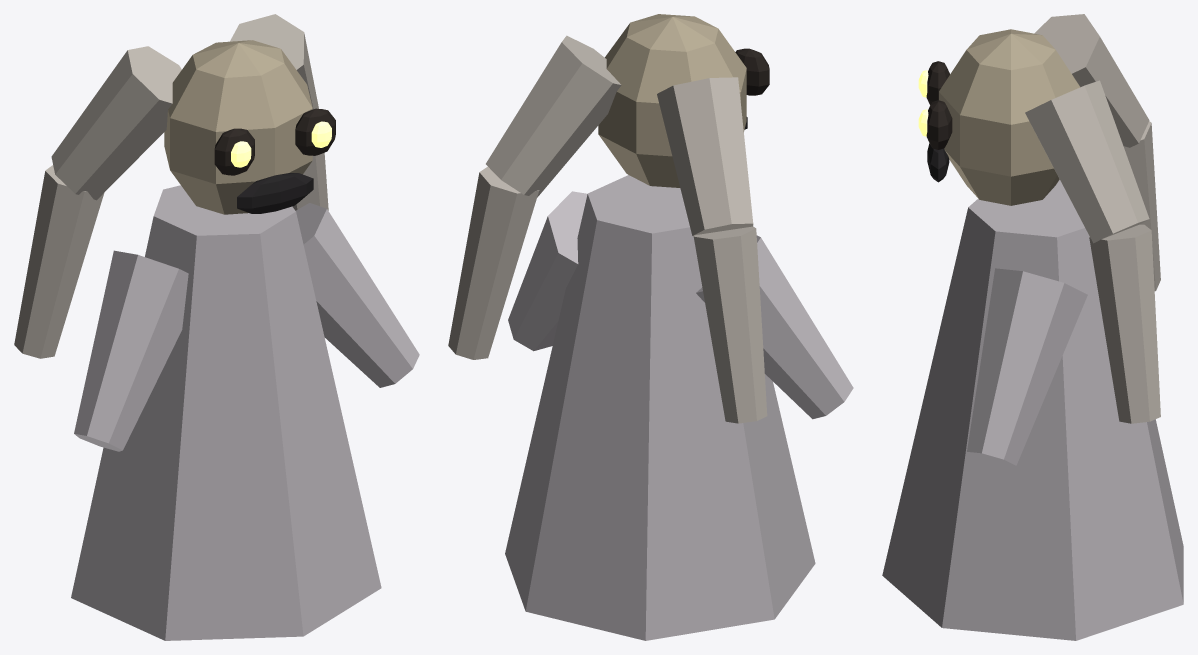
The model's file is fauna-ashen_banshee.glb.
The picture shows the model from 3 angles, left to right: view 1: azimuth 30°, elevation 25°; view 2: azimuth 150°, elevation 25°; view 3: azimuth 270°, elevation 25°; orthographic projection.
Visible parts, largest first — view 1: Fauna_ashen_banshee; view 2: Fauna_ashen_banshee; view 3: Fauna_ashen_banshee.
Boxes of the visible parts, bbox=[...] form: Fauna_ashen_banshee: bbox=[14, 14, 419, 640]; Fauna_ashen_banshee: bbox=[448, 14, 853, 640]; Fauna_ashen_banshee: bbox=[882, 14, 1183, 640].
Size of the model in its own units: 1.17 by 1.81 by 0.9125.
